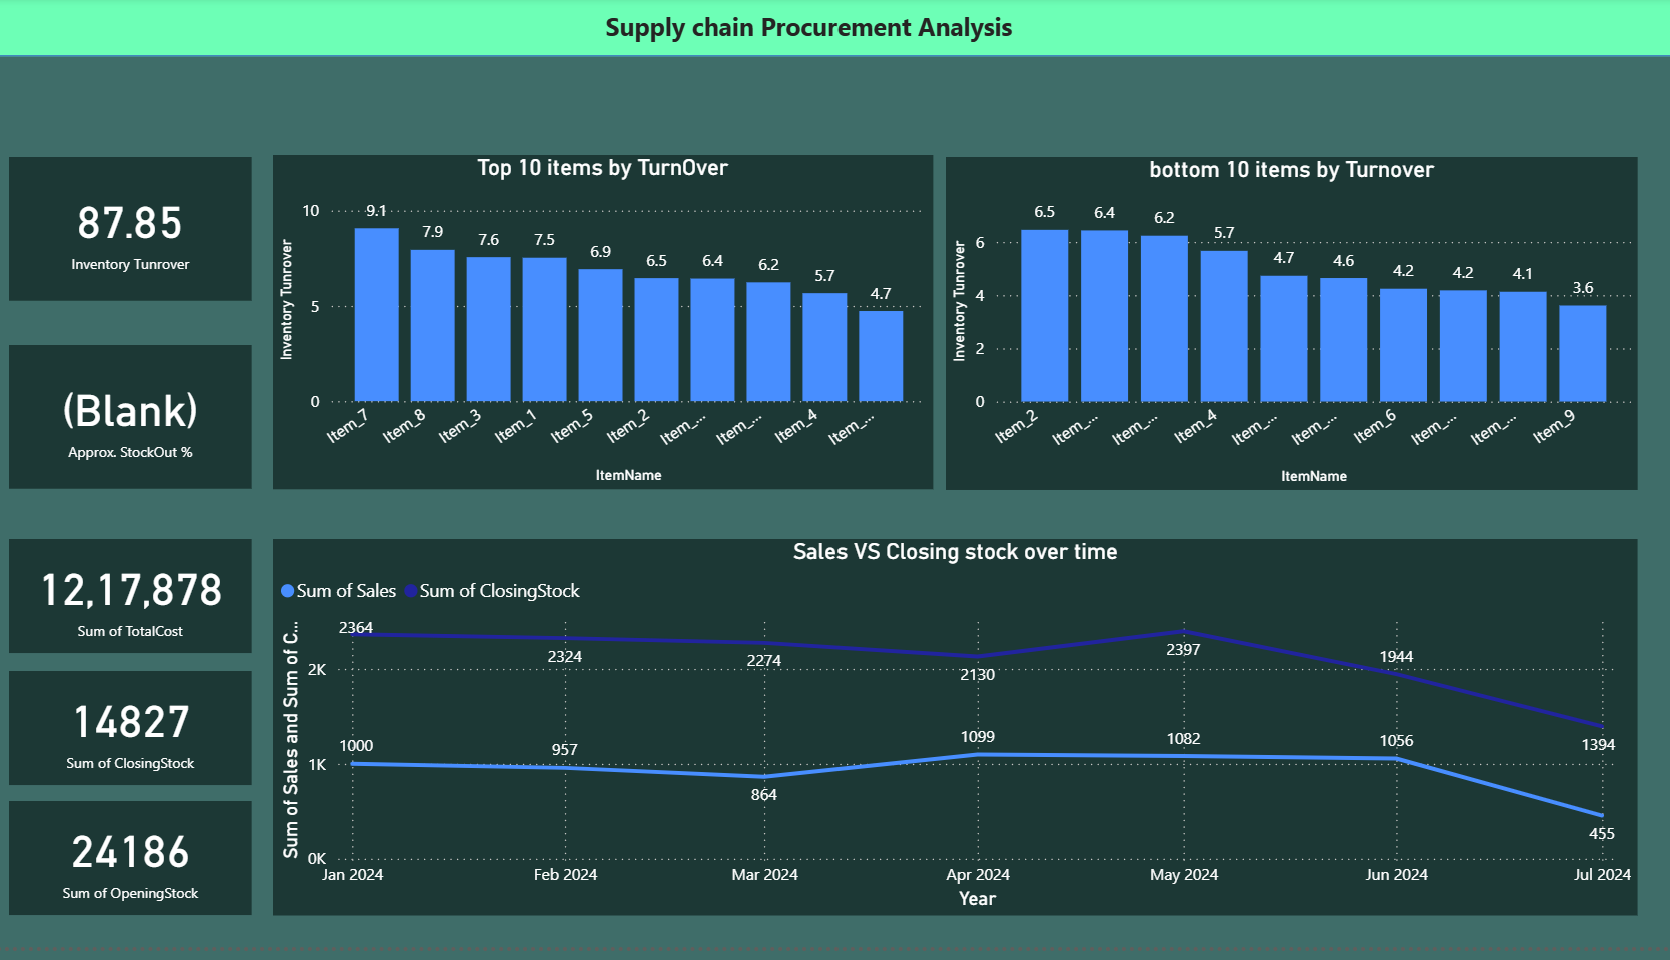

The dashboard page shown, as its layout file describes it:
{"tool":"powerbi","page":{"name":"Inventory Analysis","canvas":[1280,720],"ordinal":2},"visuals":[{"type":"shape","box":[0,0,1280,45.1],"z":0},{"type":"clusteredColumnChart","title":"Top 10 items by TurnOver","fields":{"Category":["Items.ItemName"],"Y":["Measure.Inventory Tunrover"]},"box":[213,119.9,499.8,253.6],"z":1000},{"type":"lineChart","title":"Sales VS Closing stock over time","fields":{"Y":["Sum(Inventory.Sales)","Sum(Inventory.ClosingStock)"],"Category":["Inventory.Date.Variation.Date Hierarchy.Year","Inventory.Date.Variation.Date Hierarchy.Month"]},"box":[213,411,1034.1,285.3],"z":2000},{"type":"card","fields":{"Values":["Measure.Inventory Tunrover"]},"box":[12.2,121.1,183.9,108.9],"z":3000},{"type":"card","fields":{"Values":["Sum(Purchases.TotalCost)"]},"box":[12.2,411,183.9,86.3],"z":4000},{"type":"card","fields":{"Values":["Sum(Inventory.ClosingStock)"]},"box":[12.2,510.5,183.9,86.3],"z":5000},{"type":"card","fields":{"Values":["Sum(Inventory.OpeningStock)"]},"box":[12.2,610,183.9,86.3],"z":6000},{"type":"clusteredColumnChart","title":"bottom 10 items by Turnover","fields":{"Category":["Items.ItemName"],"Y":["Measure.Inventory Tunrover"]},"box":[722.6,121.1,524.6,252.4],"z":7000},{"type":"card","fields":{"Values":["Measure.Approx. StockOut %"]},"box":[12.2,264.6,183.9,108.9],"z":8000},{"type":"textbox","box":[458.9,4.7,328.4,35.7],"z":9000}]}

Visuals, with their boxes in screenshot pixels (x1, y1, x2, y2), scaled from the page's 1280x720 canvas onto the 1670x960 screenshot:
shape: box=[0, 0, 1669, 60]
"Top 10 items by TurnOver" clusteredColumnChart: box=[278, 160, 930, 498]
"Sales VS Closing stock over time" lineChart: box=[278, 548, 1627, 928]
card - Measure.Inventory Tunrover: box=[16, 161, 256, 307]
card - Sum(Purchases.TotalCost): box=[16, 548, 256, 663]
card - Sum(Inventory.ClosingStock): box=[16, 681, 256, 796]
card - Sum(Inventory.OpeningStock): box=[16, 813, 256, 928]
"bottom 10 items by Turnover" clusteredColumnChart: box=[943, 161, 1627, 498]
card - Measure.Approx. StockOut %: box=[16, 353, 256, 498]
textbox: box=[599, 6, 1027, 54]
